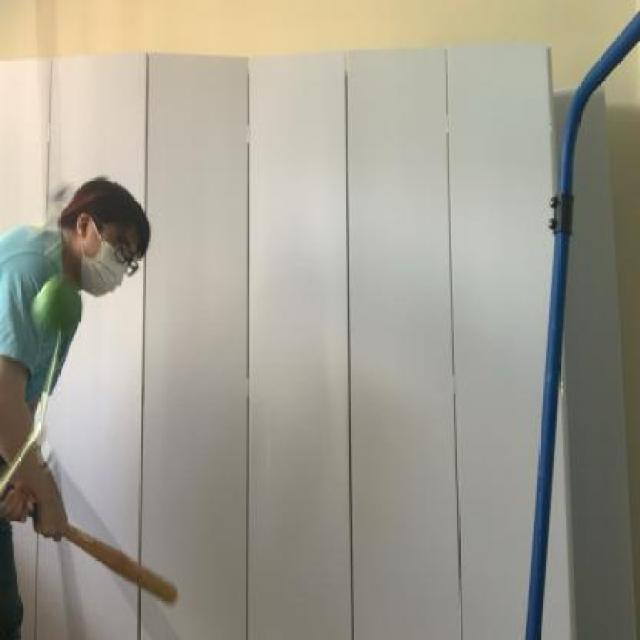baseball: (30, 272, 88, 336)
